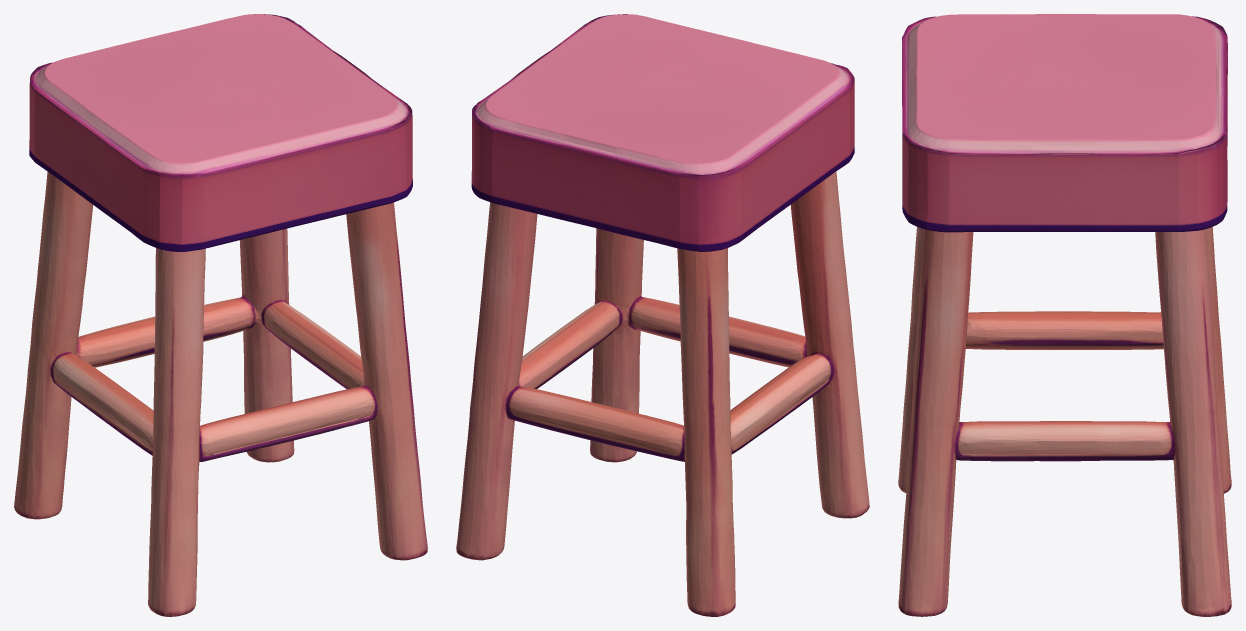
3 renders of one model, left to right at view 1: azimuth 30°, elevation 25°; view 2: azimuth 150°, elevation 25°; view 3: azimuth 270°, elevation 25°, orthographic. The views are drawn at different scales.
Visible parts, largest first — view 1: world; view 2: world; view 3: world.
Boxes of the visible parts, x1,y1,x2,y2 form: world: (14, 14, 427, 616); world: (456, 14, 869, 616); world: (898, 14, 1231, 616).
Bounding box in the file's own units: 64.32 × 100 × 64.25.
Materials: 1 (1 with a texture image).
